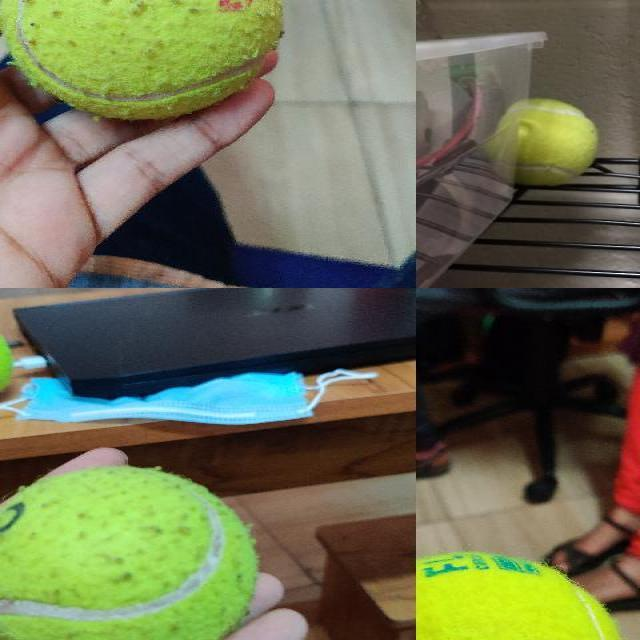tennis-ball: (0, 465, 257, 639), (0, 0, 283, 120), (416, 554, 626, 639), (527, 97, 598, 185)
